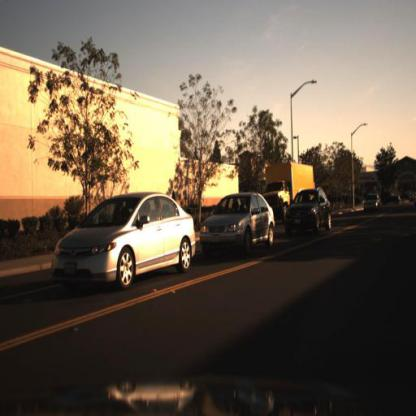car: (46, 189, 204, 301), (52, 192, 196, 293), (201, 193, 274, 252), (283, 189, 332, 238), (361, 190, 383, 219), (379, 191, 406, 208)
truck: (262, 158, 321, 220)
